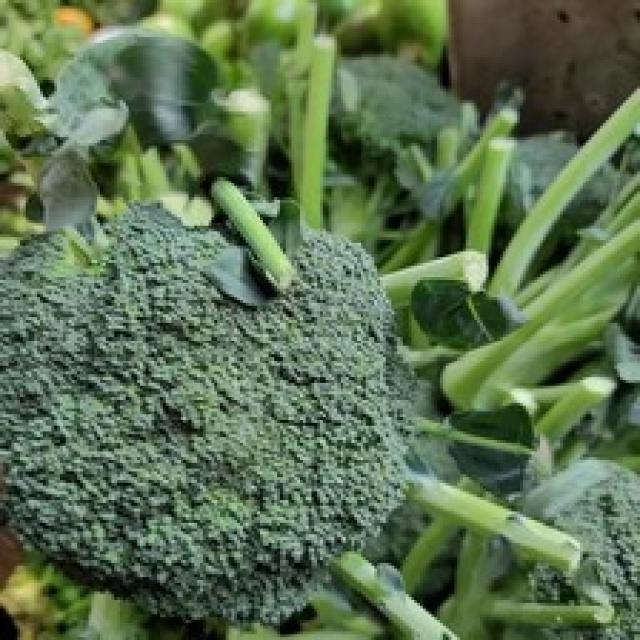Broccoli: (0, 205, 414, 623), (0, 205, 414, 623)
